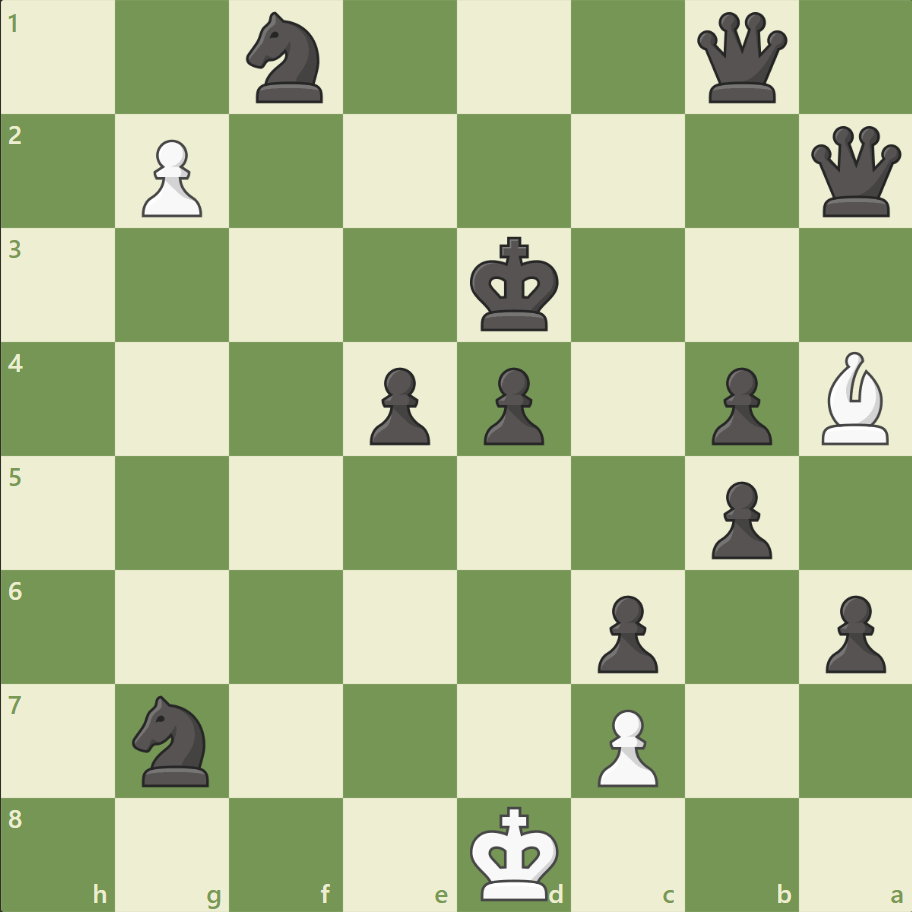B: (812, 347, 896, 449)
K: (465, 798, 565, 906)
P: (133, 132, 208, 223), (588, 700, 662, 791)
k: (465, 231, 565, 339)
n: (124, 688, 222, 791), (238, 7, 335, 110)
p: (701, 473, 776, 564), (701, 359, 776, 450), (474, 359, 549, 450), (815, 586, 889, 677), (588, 586, 662, 677), (361, 359, 435, 450)
q: (805, 122, 904, 222), (691, 9, 790, 108)
